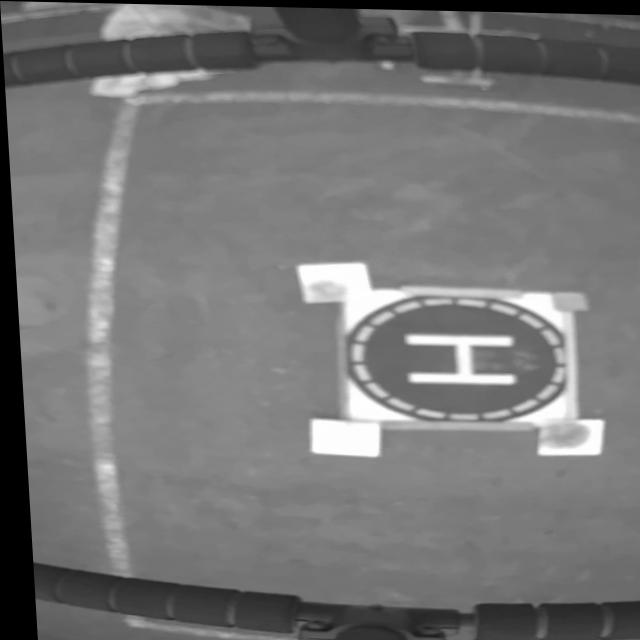Helipad: (401, 332, 511, 382)
